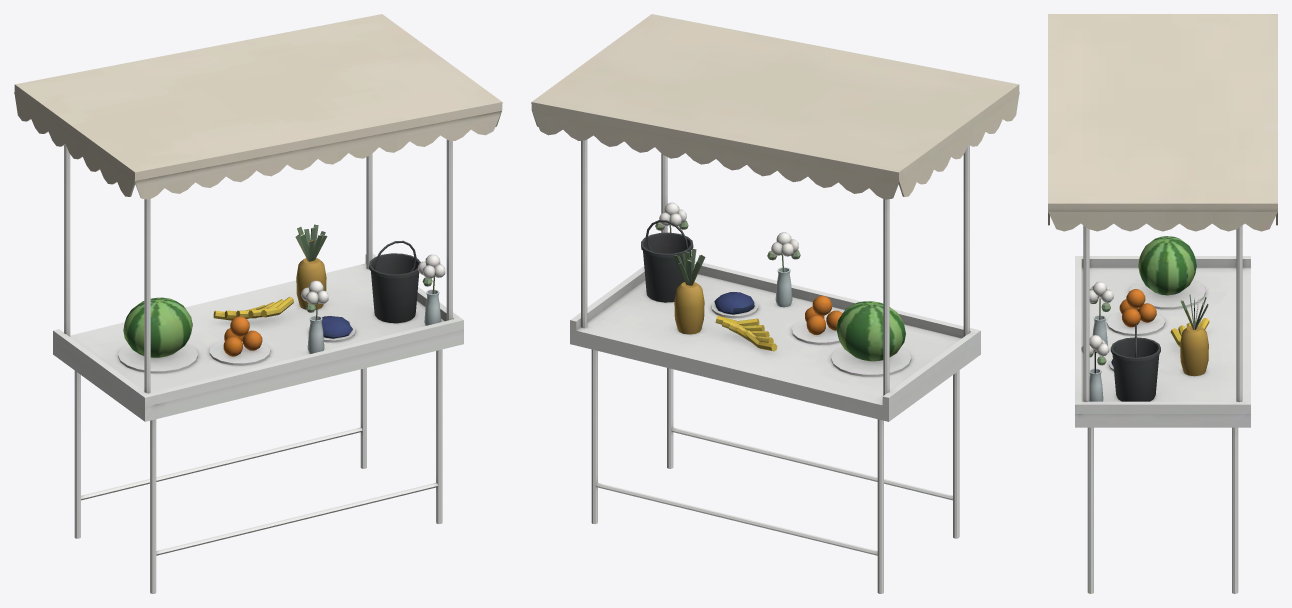
Rendered from beverage_cart.glb.
3 views of the same model, side by side, from view 1: azimuth 30°, elevation 25°; view 2: azimuth 150°, elevation 25°; view 3: azimuth 270°, elevation 25° (orthographic). The views are drawn at different scales.
Visible parts, largest first — view 1: beverage_cart; view 2: beverage_cart; view 3: beverage_cart.
Part boxes in pixels (<box>): beverage_cart: <box>14,14,502,593</box>; beverage_cart: <box>531,14,1019,593</box>; beverage_cart: <box>1048,14,1277,593</box>.
Size of the model in its own units: 1.8 by 2.09 by 1.02.
Materials: 1 (1 with a texture image).
